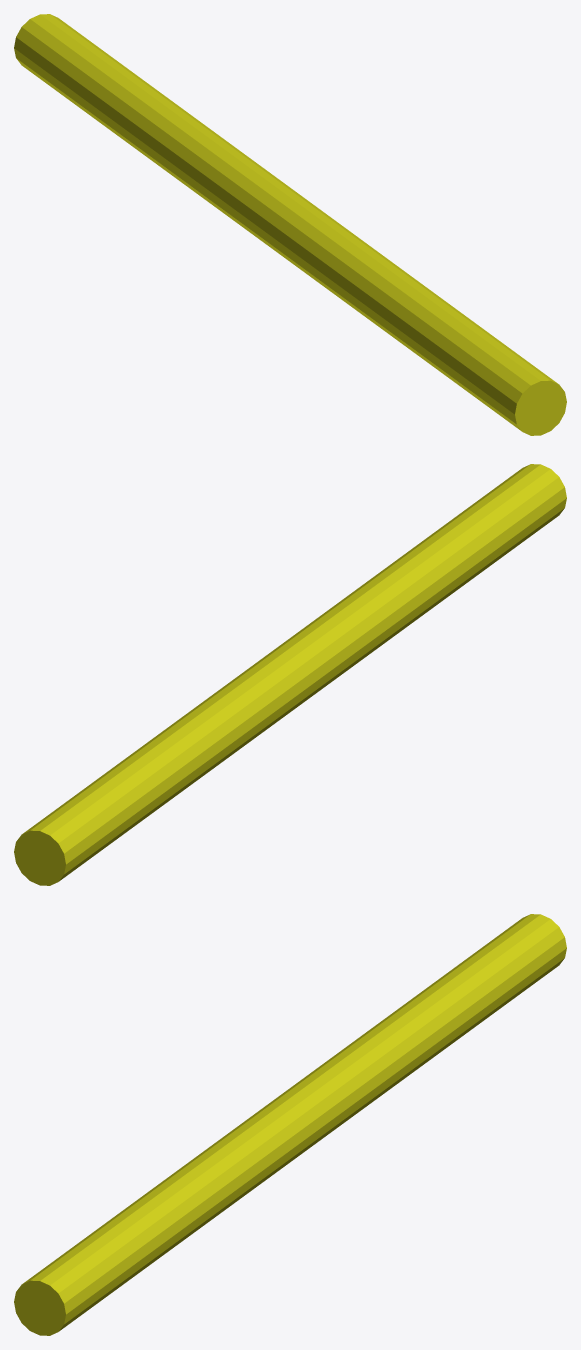
File: pipe_5meter.obj
3 views of the same model, one above another, from view 1: azimuth 30°, elevation 25°; view 2: azimuth 150°, elevation 25°; view 3: azimuth 330°, elevation 25° (orthographic).
Size of the model in its own units: 3 by 3 by 50.
